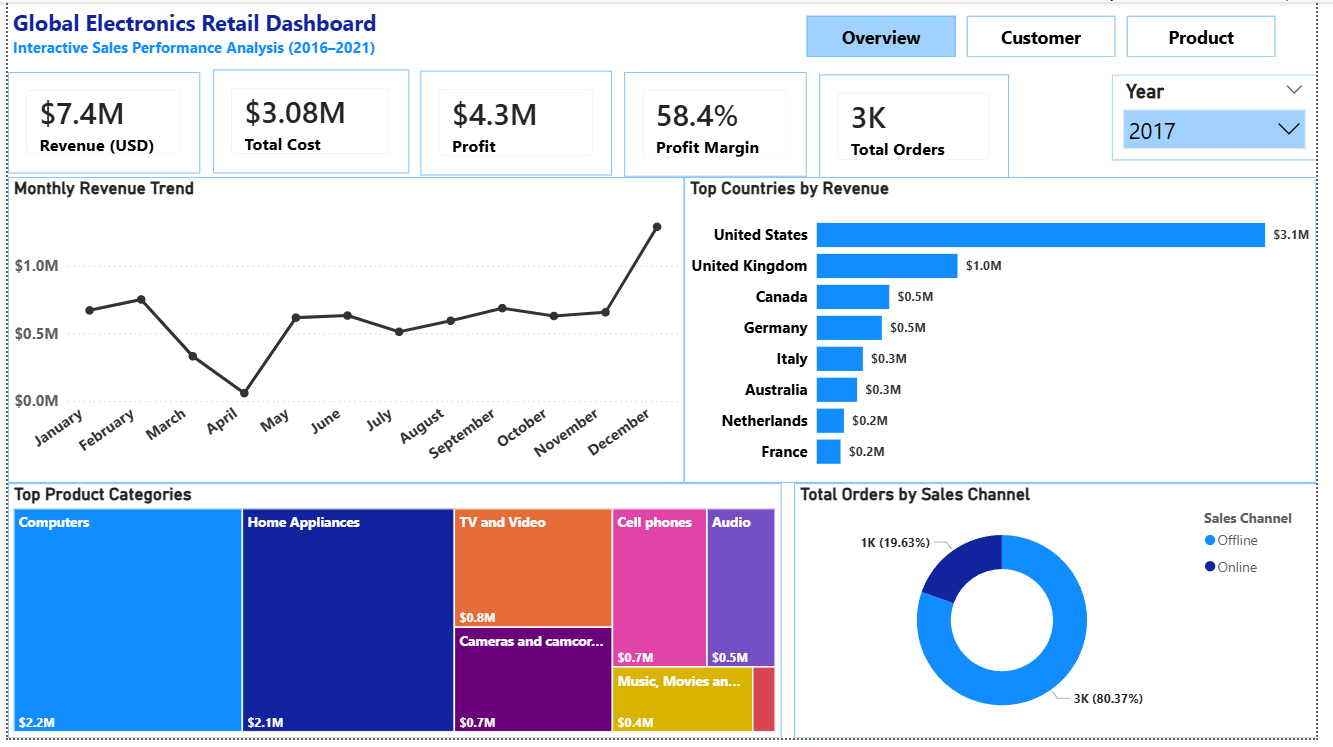

Layout of this report page (visuals, bound fields, positions):
{"tool":"powerbi","page":{"name":"Overview","canvas":[1280,720],"ordinal":0},"visuals":[{"type":"cardVisual","fields":{"Data":["Measures_Table.Total Revenue"]},"box":[0,68.5,188.3,99],"z":0},{"type":"cardVisual","fields":{"Data":["Measures_Table.Total Cost"]},"box":[200.5,66.5,192,101.5],"z":1000},{"type":"cardVisual","fields":{"Data":["Measures_Table.Profit"]},"box":[403.5,67,187.1,102.7],"z":2000},{"type":"cardVisual","fields":{"Data":["Measures_Table.Profit Margin"]},"box":[602.9,68.7,178.5,102.7],"z":3000},{"type":"lineChart","title":"Monthly Revenue Trend","fields":{"Y":["Measures_Table.Revenue (USD)"],"Category":["Calendar.Date.Variation.Date Hierarchy.Month"]},"box":[0,171.2,661.6,299.6],"z":4000},{"type":"slicer","fields":{"Values":["Calendar.Year"]},"box":[1079.8,70.9,200.5,84.4],"z":5000},{"type":"cardVisual","fields":{"Data":["Measures_Table.Total Orders"]},"box":[793.6,70.4,185.9,102.7],"z":6000},{"type":"clusteredBarChart","title":"Top Countries by Revenue","fields":{"Category":["Stores.Country"],"Y":["Measures_Table.Revenue (USD)"]},"box":[661.6,171.2,618.8,299.6],"z":7000},{"type":"treemap","title":"Top Product Categories","fields":{"Group":["Products.Category"],"Values":["Measures_Table.Revenue (USD)"]},"box":[0,470.8,756.9,249.5],"z":8000},{"type":"textbox","box":[0,0,379.1,68.5],"z":9000},{"type":"donutChart","fields":{"Category":["Sales.Sales Channel"],"Y":["Measures_Table.Total Orders"]},"box":[769.2,470.8,511.1,249.5],"z":10000},{"type":"actionButton","title":"Overview","box":[781.4,13.5,145.5,40.4],"z":10001},{"type":"actionButton","box":[937.9,13.5,145.5,40.4],"z":10002},{"type":"actionButton","box":[1094.4,13.5,145.5,40.4],"z":10003}]}

Visuals, with their boxes in screenshot pixels (x1, y1, x2, y2), scaled from the page's 1280x720 canvas onto the 1333x747 screenshot:
cardVisual - Measures_Table.Total Revenue: {"x1": 0, "y1": 71, "x2": 196, "y2": 174}
cardVisual - Measures_Table.Total Cost: {"x1": 209, "y1": 69, "x2": 409, "y2": 174}
cardVisual - Measures_Table.Profit: {"x1": 420, "y1": 70, "x2": 615, "y2": 176}
cardVisual - Measures_Table.Profit Margin: {"x1": 628, "y1": 71, "x2": 814, "y2": 178}
"Monthly Revenue Trend" lineChart: {"x1": 0, "y1": 178, "x2": 689, "y2": 488}
slicer - Calendar.Year: {"x1": 1125, "y1": 74, "x2": 1332, "y2": 161}
cardVisual - Measures_Table.Total Orders: {"x1": 826, "y1": 73, "x2": 1020, "y2": 180}
"Top Countries by Revenue" clusteredBarChart: {"x1": 689, "y1": 178, "x2": 1332, "y2": 488}
"Top Product Categories" treemap: {"x1": 0, "y1": 488, "x2": 788, "y2": 746}
textbox: {"x1": 0, "y1": 0, "x2": 395, "y2": 71}
donutChart - Sales.Sales Channel x Measures_Table.Total Orders: {"x1": 801, "y1": 488, "x2": 1332, "y2": 746}
"Overview" actionButton: {"x1": 814, "y1": 14, "x2": 965, "y2": 56}
actionButton: {"x1": 977, "y1": 14, "x2": 1128, "y2": 56}
actionButton: {"x1": 1140, "y1": 14, "x2": 1291, "y2": 56}
